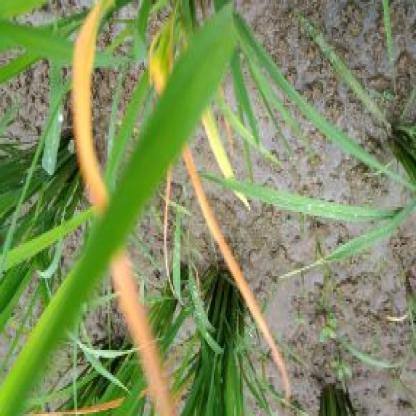Tungro: (70, 15, 149, 397)
